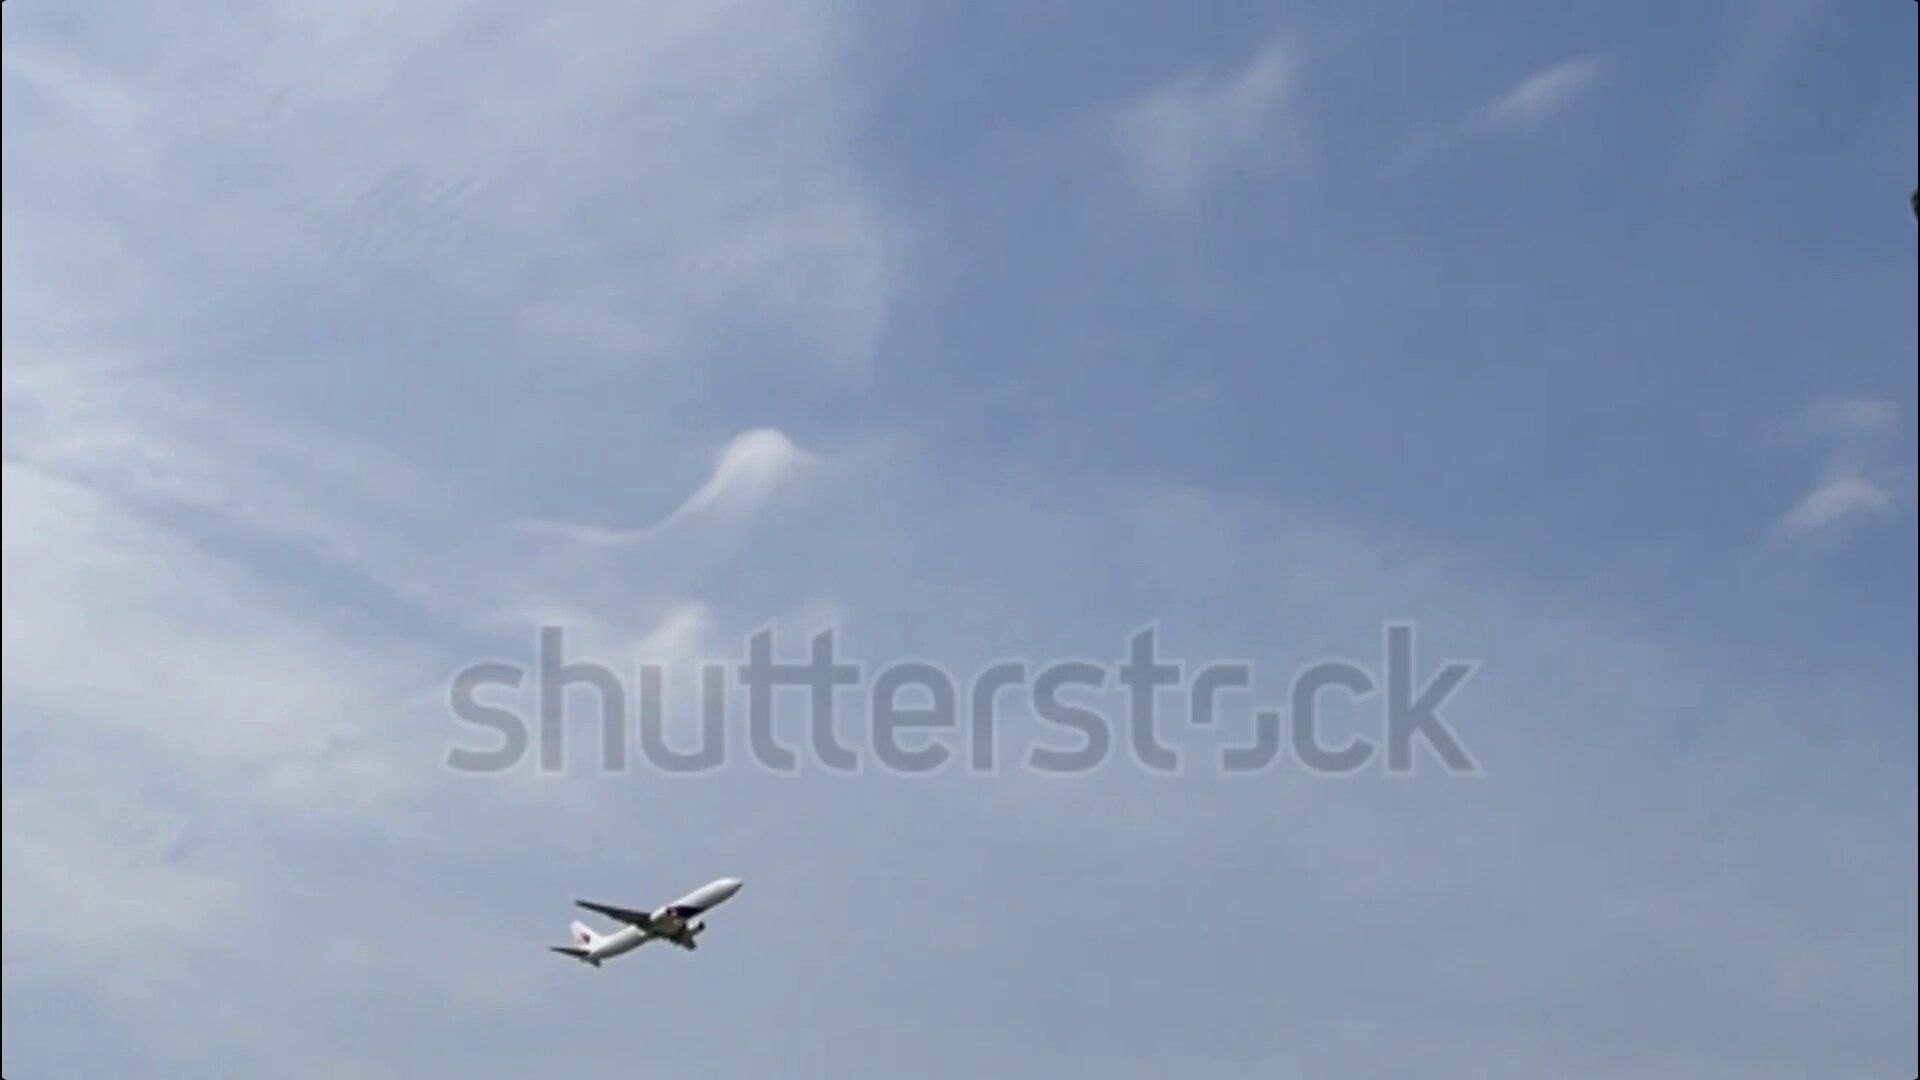airplane: (553, 874, 746, 973)
